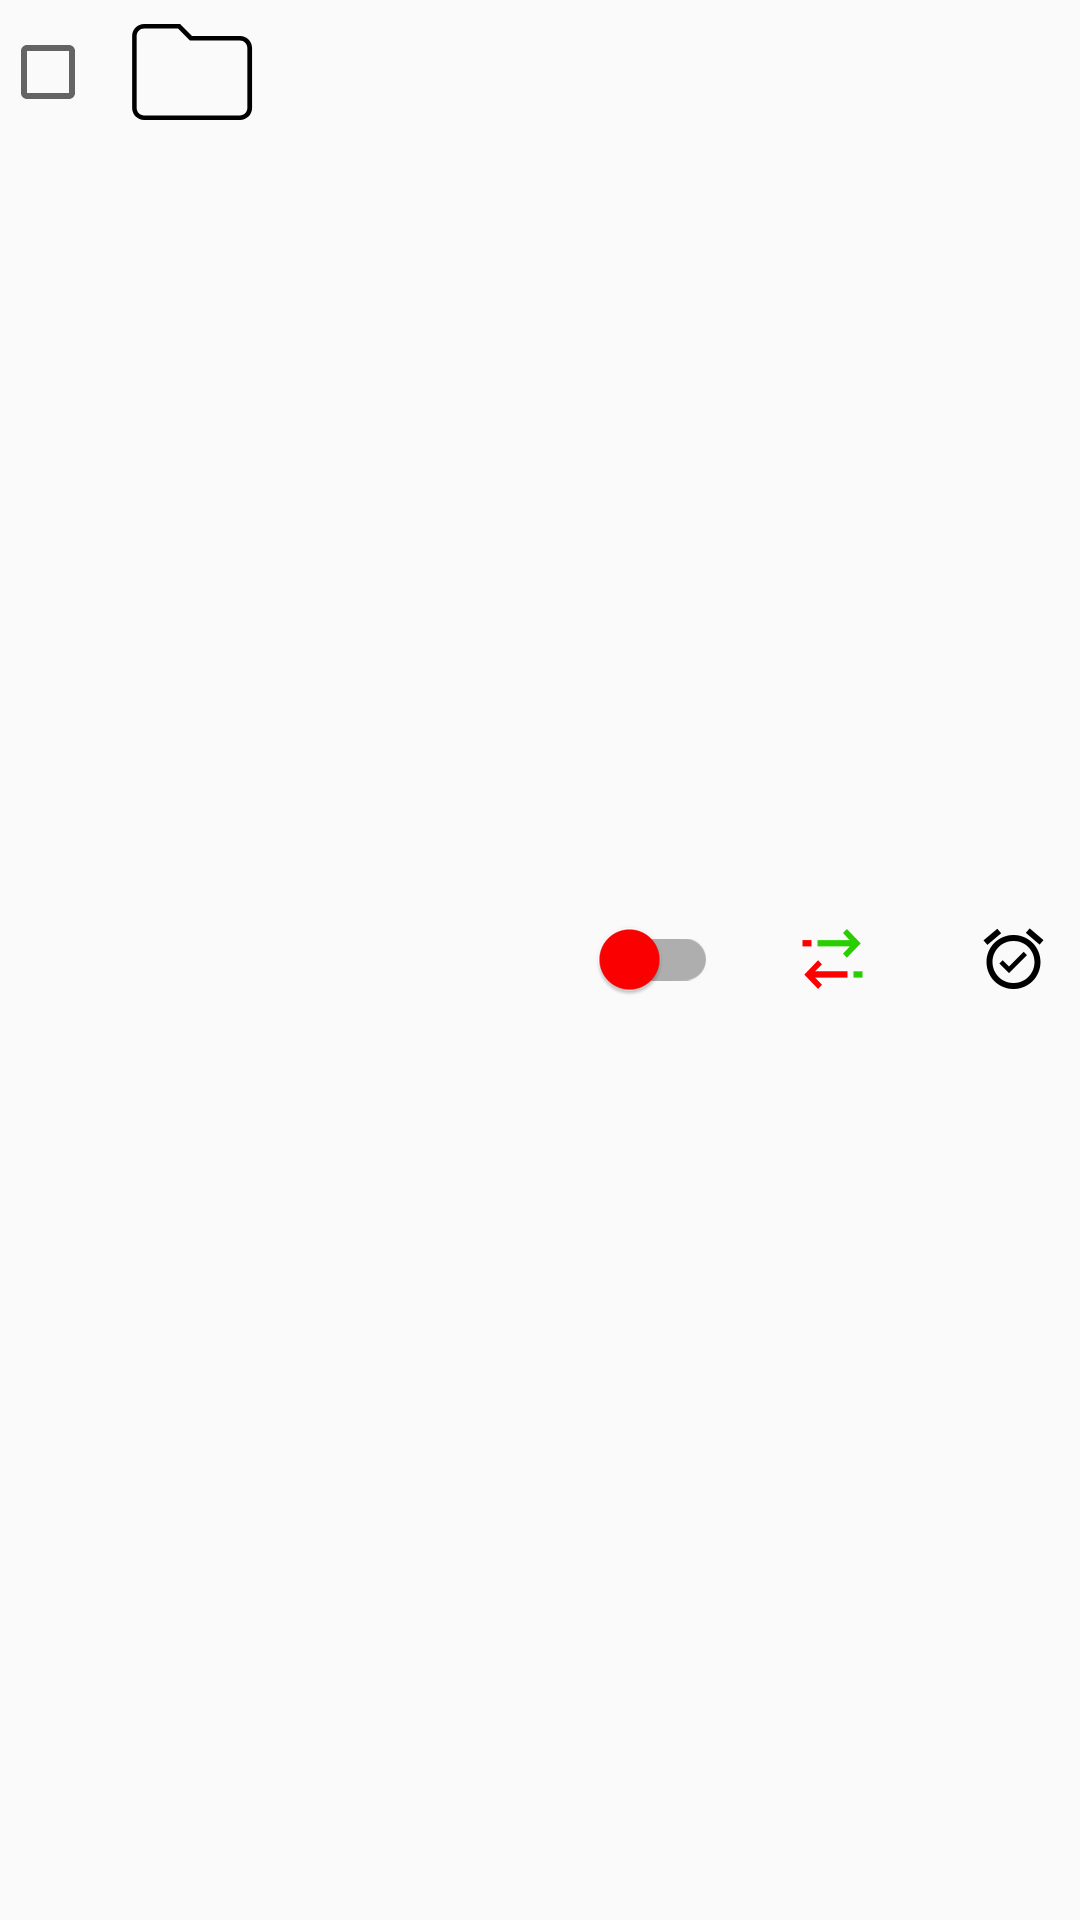

Locate icon controls on the screen. Image size 1080w x 1920h, boxes as [x1=x1, y1=y1, x2=x2, y2=y2].
alarm activated: [x1=983, y1=928, x2=1044, y2=989]
folder: [x1=132, y1=24, x2=252, y2=120]
